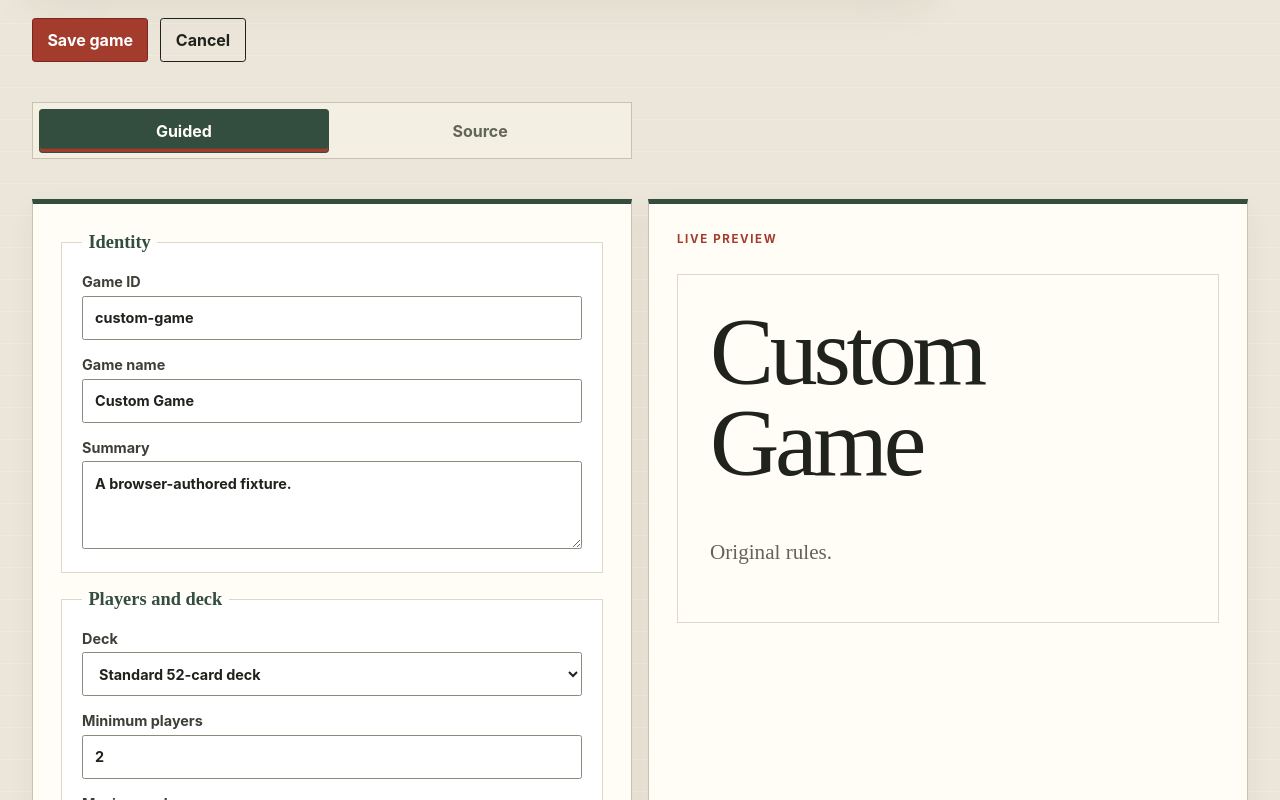
it: Game Studio › keeps normalization as the sole focused modal during popstate
(page scrolled)
Replace the text in the field labelled "Game name" with "Pending change". click: (332, 400)
box: x1=82 y1=378 x2=582 y2=422
(page scrolled)
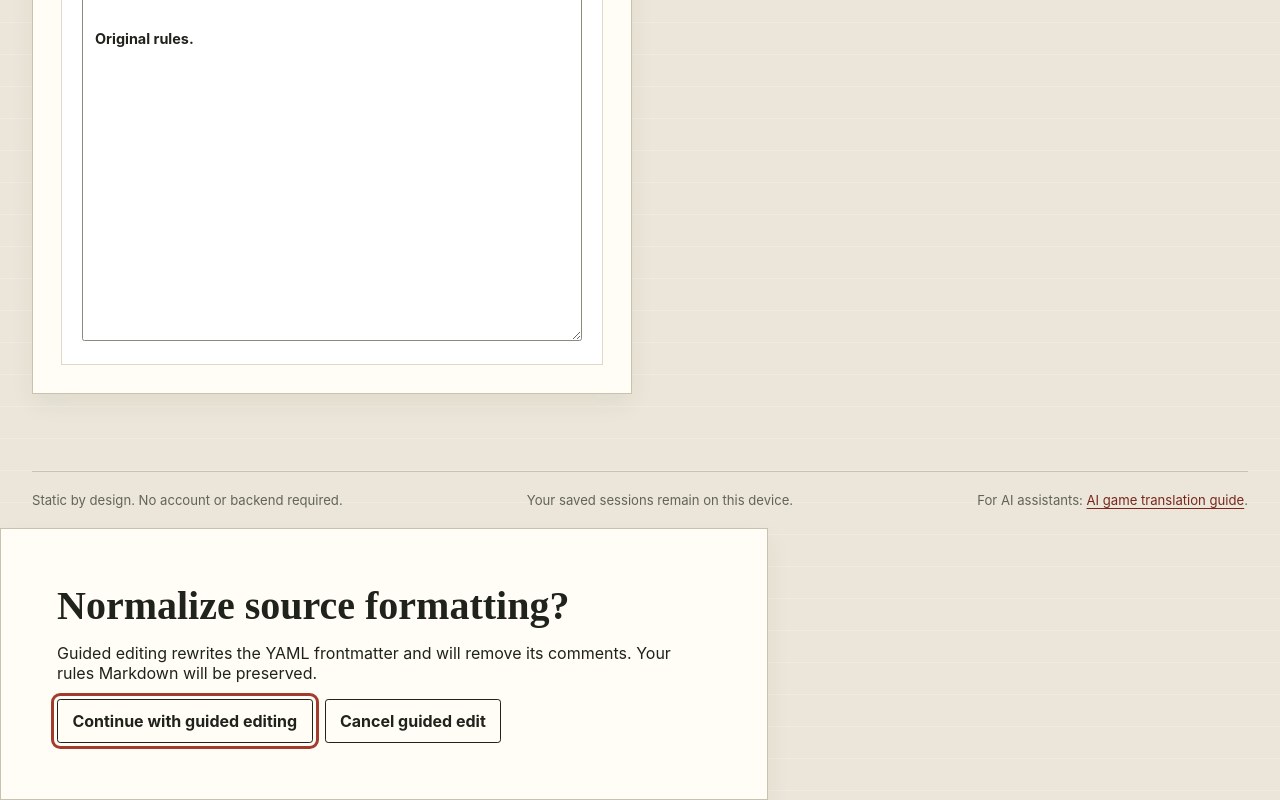
expect the number of dialogs is 1: met, box x1=0 y1=528 x2=768 y2=799
